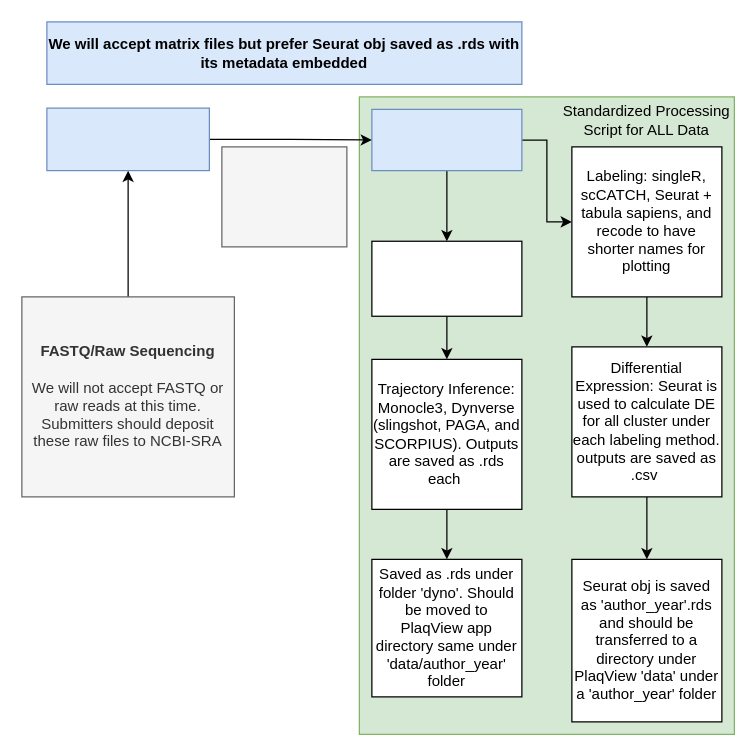
This 756x756 diagram has some shape labels left out. The centre of each missing label's shape, as x and y in pixels:
"Count Matrix" goes at pixel 127 139.
"Custom script is needed: individual samples are integrated using Seurat v4" goes at pixel 284 196.
"Seurat Obj (unprocessed)" goes at pixel 446 139.
"Seurat: preprocess and Normalization" goes at pixel 446 278.
